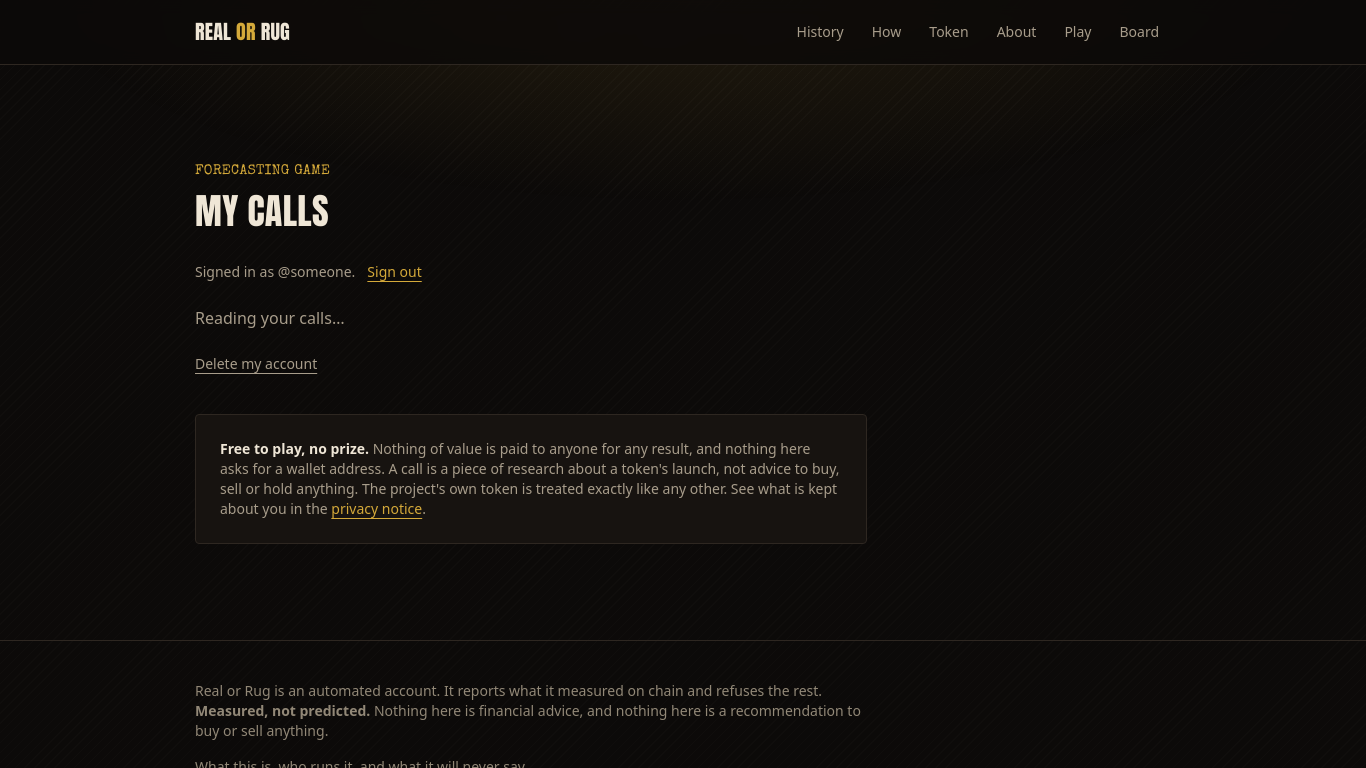
Test: my calls and the privacy notice › says nothing was deleted when the server refuses
Click the button "Delete my account" at coordinates (256, 364), box [195,354,317,374]
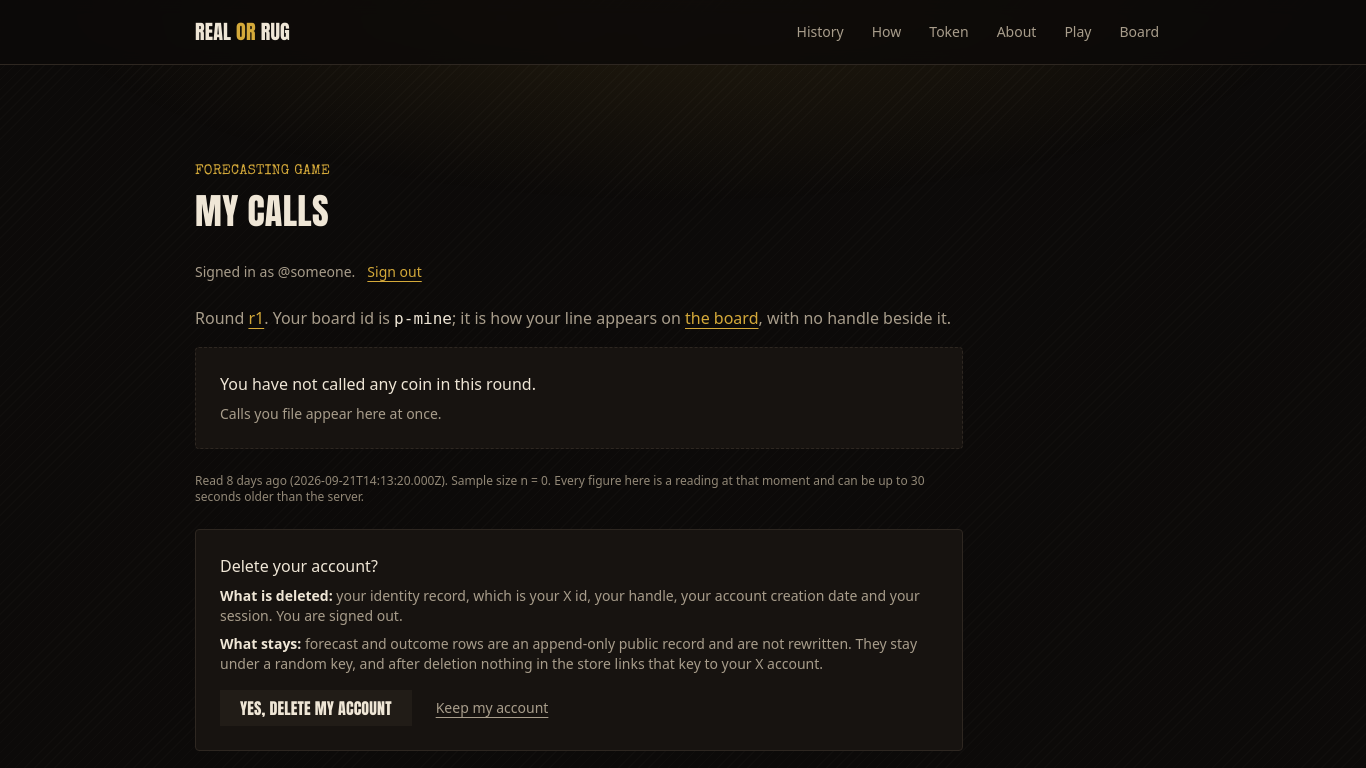
Click the button "Yes, delete my account" at coordinates (316, 708), box [220,690,412,726]
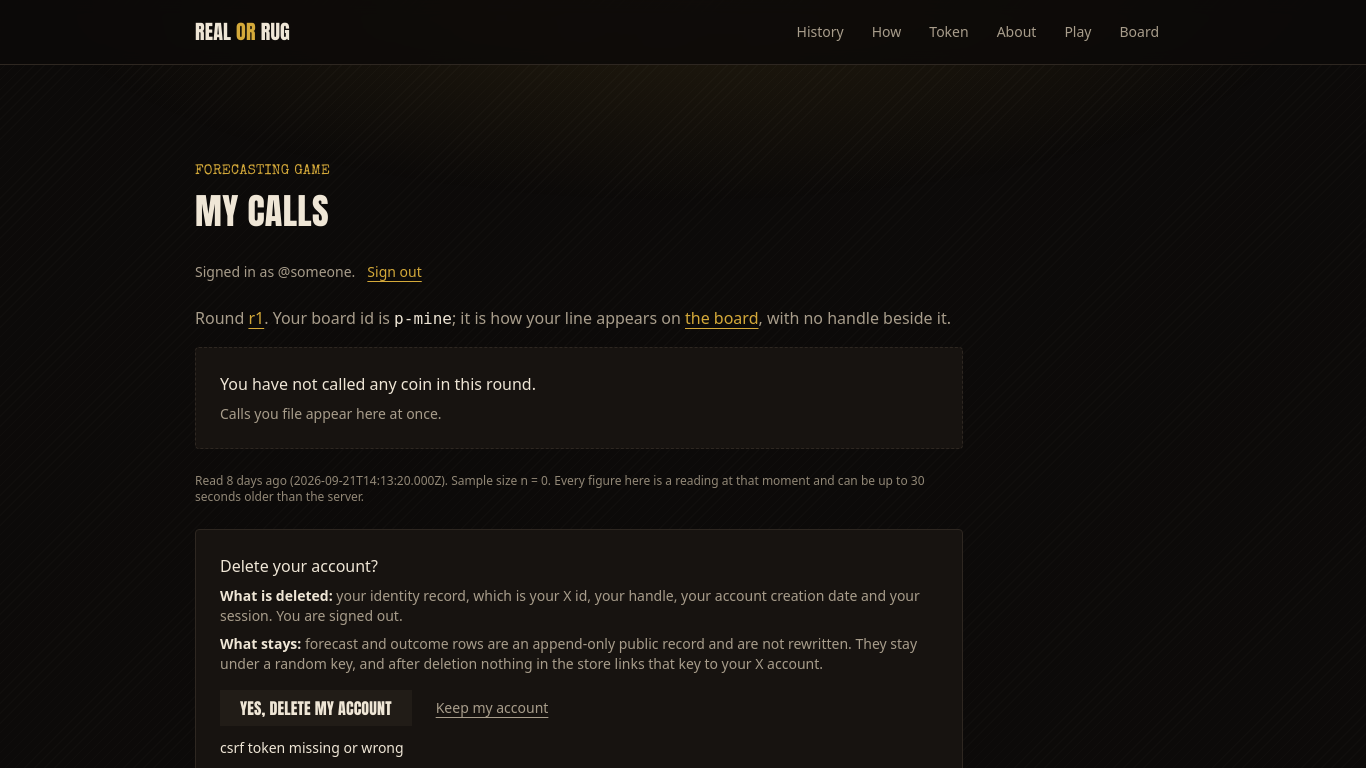
Now the message "csrf token missing or wrong" is shown, box [220,738,404,757]
